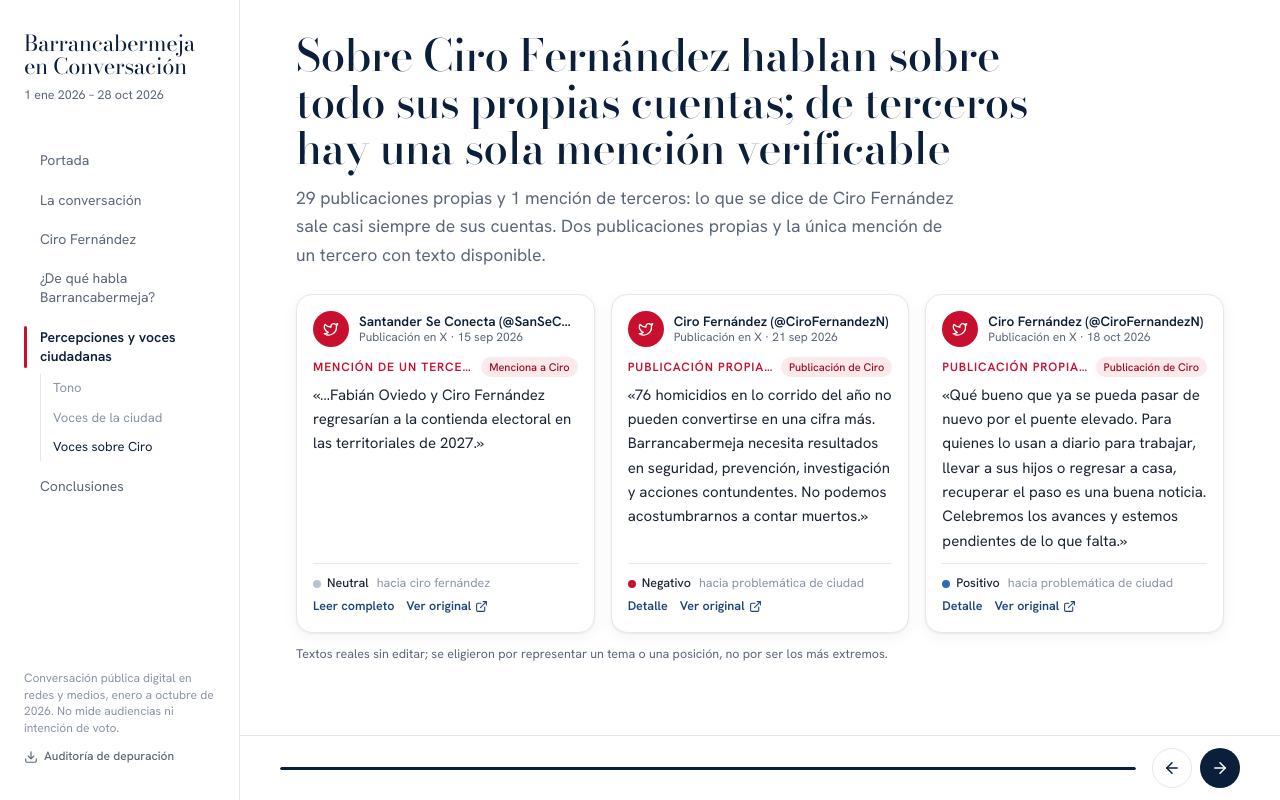
Test: navegación del informe › abre el texto completo de una evidencia y Escape lo cierra sin cambiar de capítulo
Click the button "Leer completo". click: (354, 606)
box: [313,597,394,616]
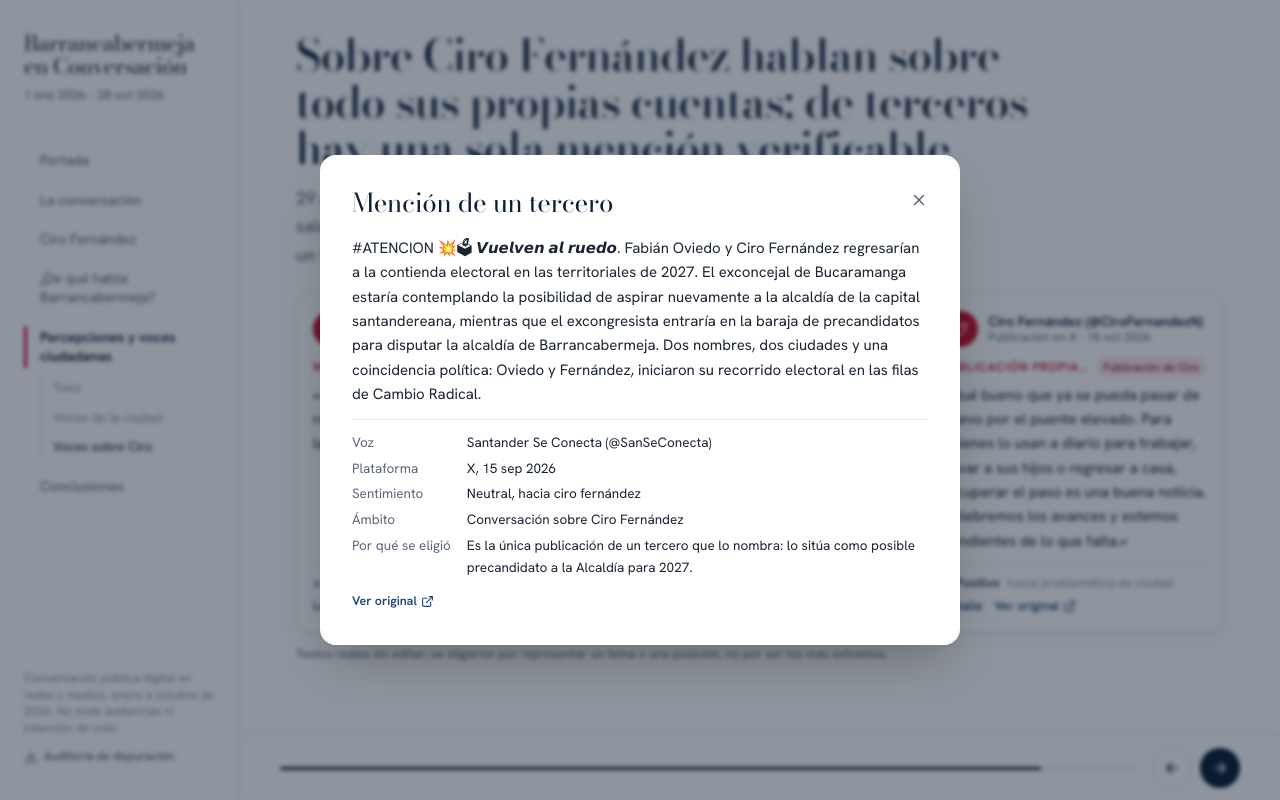
Press ArrowRight
Press Escape
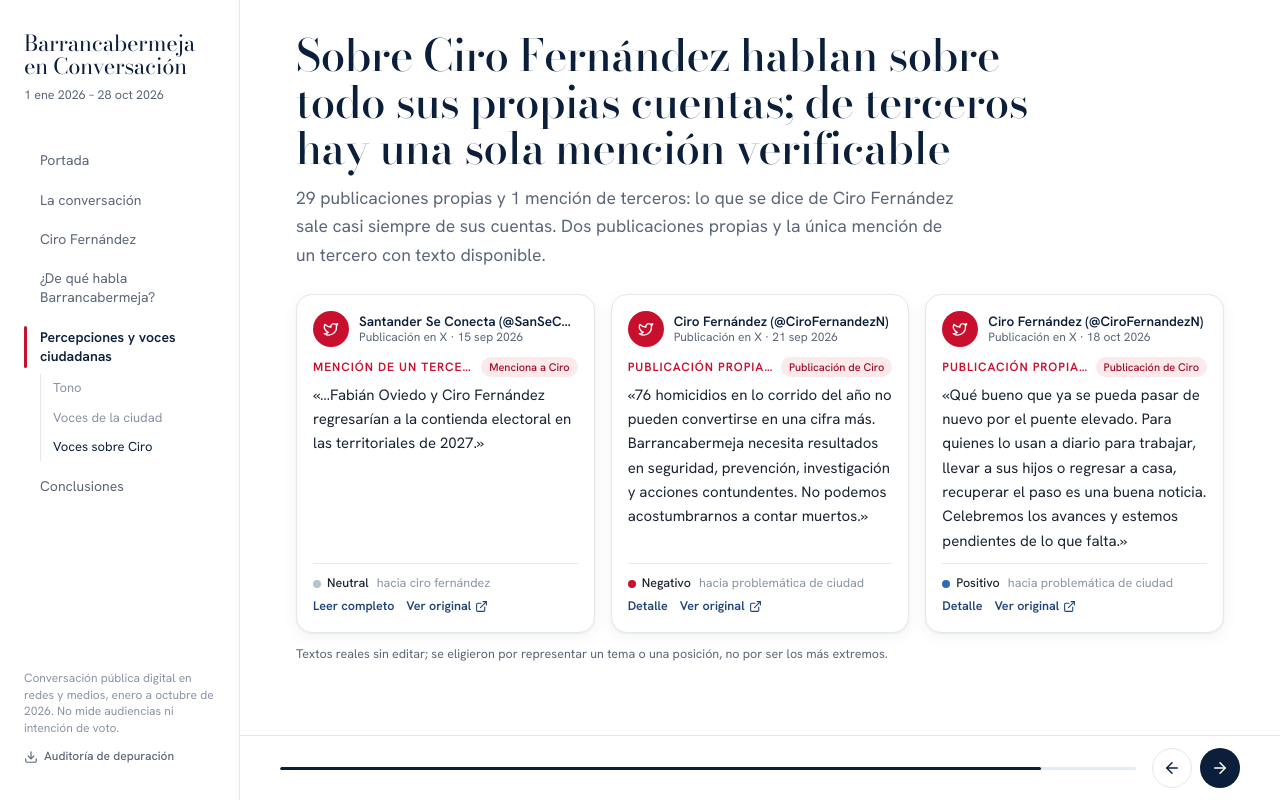
Result: the dialog is gone
